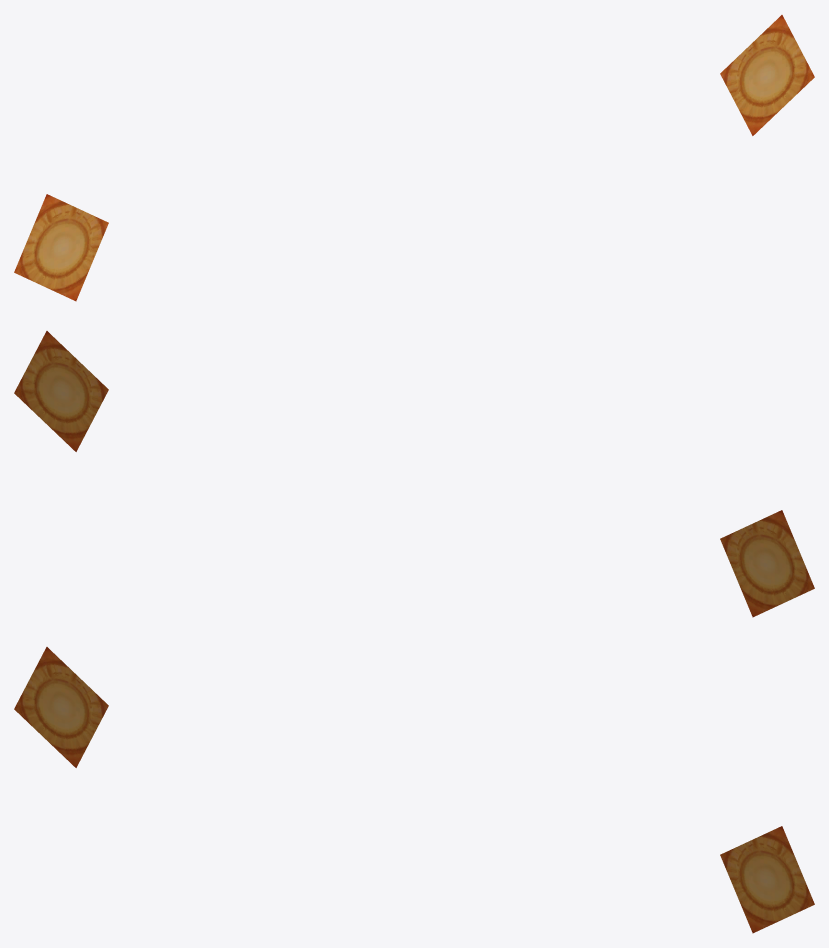
File: hutt_fighter_heavy_booster_s01_on_l2.fbx
3 renders of one model, top to bottom at view 1: azimuth 30°, elevation 25°; view 2: azimuth 150°, elevation 25°; view 3: azimuth 330°, elevation 25°, orthographic.
Parts seen in each view (by area): view 1: mesh_node; view 2: mesh_node; view 3: mesh_node.
Boxes of the visible parts, x1,y1,x2,y2 form: mesh_node: (14,15,814,301); mesh_node: (14,331,814,617); mesh_node: (14,647,814,933).
Bounding box in the file's own units: 8.93 × 1.22 × 0.
1 material, 1 textured.
